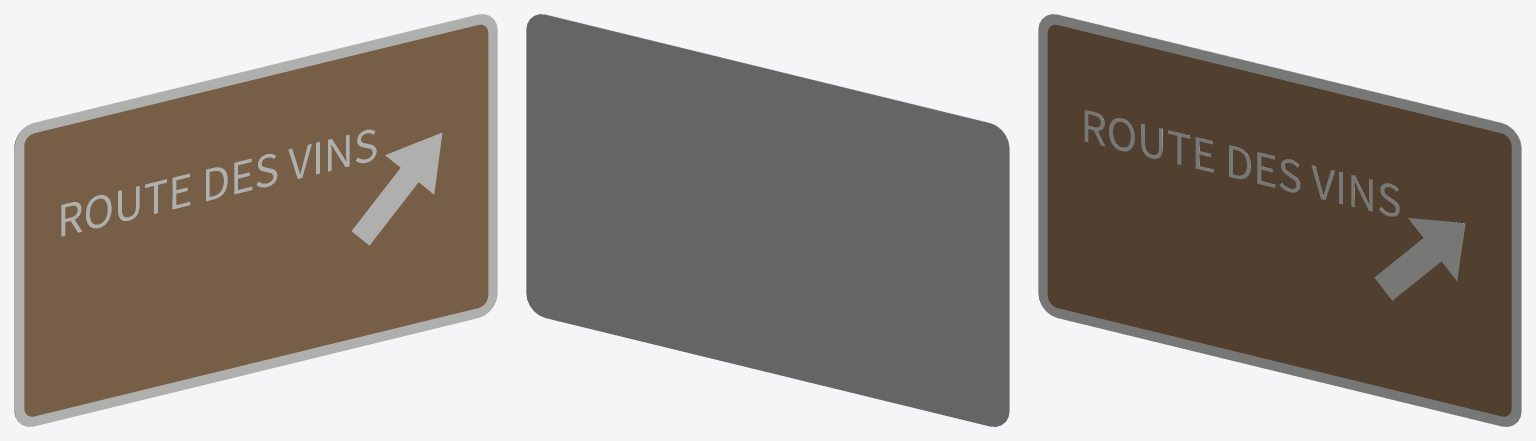
The picture shows the model from 3 angles, left to right: view 1: azimuth 30°, elevation 25°; view 2: azimuth 150°, elevation 25°; view 3: azimuth 330°, elevation 25°; orthographic projection.
Visible parts, largest first — view 1: H23_r01, H23_r00, H23_p03, H23_txt02, H23_dos; view 2: H23_dos; view 3: H23_r01, H23_r00, H23_p03, H23_txt02, H23_dos.
Boxes of the visible parts, left/top/right/bottom form: H23_r01: left=24, top=24, right=488, bottom=416; H23_r00: left=14, top=14, right=497, bottom=426; H23_p03: left=351, top=133, right=442, bottom=245; H23_txt02: left=61, top=129, right=376, bottom=236; H23_dos: left=14, top=14, right=487, bottom=420; H23_dos: left=526, top=14, right=1009, bottom=426; H23_r01: left=1047, top=24, right=1511, bottom=416; H23_r00: left=1038, top=14, right=1521, bottom=426; H23_p03: left=1374, top=218, right=1465, bottom=300; H23_txt02: left=1084, top=110, right=1399, bottom=216; H23_dos: left=1048, top=14, right=1521, bottom=420.
Size of the model in its own units: 1 by 0.6 by 0.0029.
